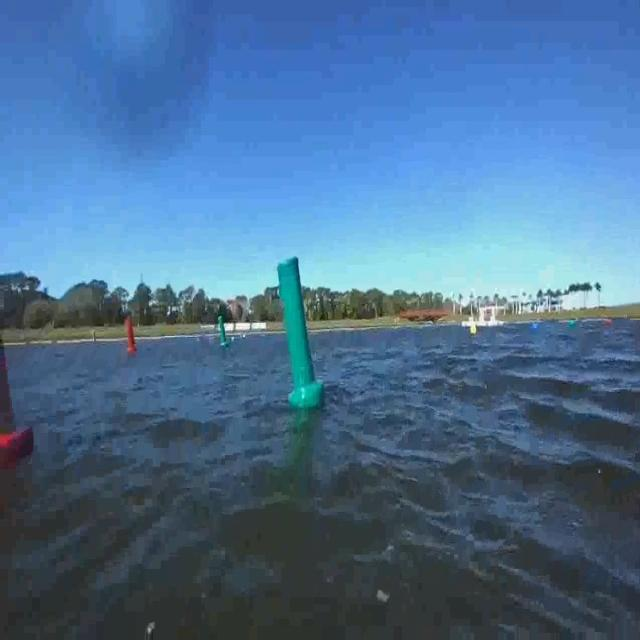blue-buoy: (533, 323, 542, 338)
green-column-buoy: (275, 254, 324, 410), (217, 315, 230, 348)
red-column-buoy: (0, 281, 35, 461), (126, 320, 138, 357)
yellow-buoy: (471, 326, 480, 340)
